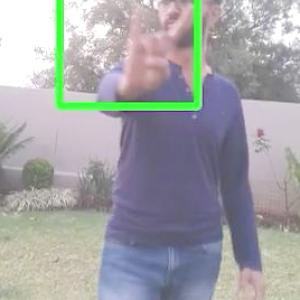takeoff-hand: (116, 0, 202, 99)
